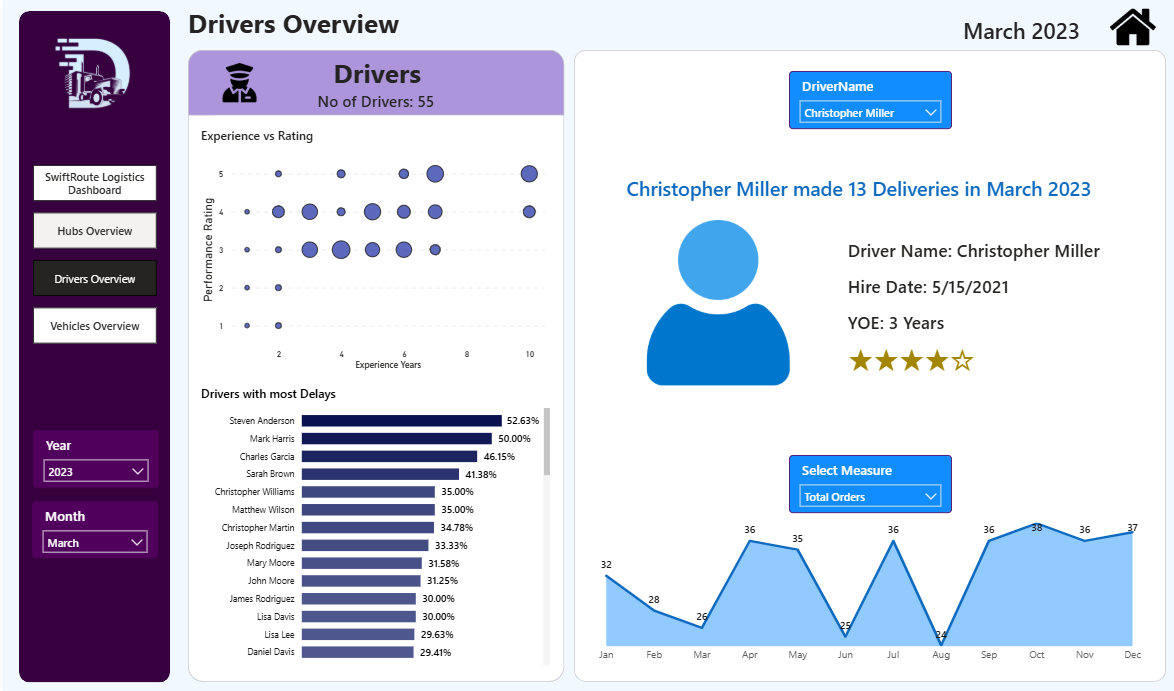

The page's visual inventory and layout, read from the dashboard file:
{"tool":"powerbi","page":{"name":"Drivers Overview","canvas":[1450,850],"ordinal":2},"visuals":[{"type":"shape","box":[19,13.3,184.6,820.1],"z":0},{"type":"textbox","box":[221.1,0,541.1,72.1],"z":1000},{"type":"slicer","fields":{"Values":["Date Table.Year"]},"box":[36.1,525.4,153.7,70.6],"z":2000},{"type":"slicer","fields":{"Values":["Date Table.Month"]},"box":[35.6,611.4,154,70],"z":3000},{"type":"shape","box":[225.8,61.2,459.5,771.6],"z":4000},{"type":"shape","box":[225.8,61.2,459.5,80],"z":5000},{"type":"textbox","box":[368.3,61.7,176.7,71.7],"z":6000},{"type":"cardVisual","fields":{"Data":["Drivers.No of Drivers"]},"box":[355,101.7,200,40],"z":7000},{"type":"scatterChart","title":"Experience vs Rating","fields":{"X":["Drivers.Experience Years"],"Y":["Drivers.Performance Rating"],"Size":["Sum(Drivers.Experience Years)1"]},"box":[236.8,155.3,436,302.7],"z":8000},{"type":"barChart","title":"Drivers with most Delays","fields":{"Category":["Drivers.DriverName"],"Y":["Orders.Delayed Delivery Rate"]},"box":[236.8,470.5,436,348.2],"z":9000},{"type":"image","box":[54.9,36.1,111.3,112.9],"z":10000},{"type":"cardVisual","fields":{"Data":["Orders.Year Month Title"]},"box":[1124.4,9.4,238.4,51.8],"z":11000},{"type":"shape","box":[697.9,61.2,723,771.6],"z":12000},{"type":"slicer","fields":{"Values":["Drivers.DriverName"]},"box":[959.8,86.3,199.2,70.6],"z":13000},{"type":"cardVisual","fields":{"Data":["Drivers.Drivers Title"]},"box":[697.9,189.8,696.3,78.4],"z":14000},{"type":"cardVisual","fields":{"Data":["Drivers.Driver Name Title","Drivers.Hire Date Title","Drivers.Year of Experiance","Drivers.Star Rating"]},"box":[1002.1,268.2,406.2,202.3],"z":15000},{"type":"image","box":[744.9,268.2,257.2,202.3],"z":16000},{"type":"lineChart","fields":{"Y":["Orders.Total Orders"],"Category":["Date Table.Month Abr"]},"box":[708.9,625.7,699.4,192.9],"z":17000},{"type":"slicer","fields":{"Values":["Select Measure.Select Measure"]},"box":[959.8,555.2,199.2,70.6],"z":18000},{"type":"image","box":[1351.8,4.7,56.5,56.5],"z":19000},{"type":"pageNavigator","box":[36.7,201.7,151.7,221.7],"z":20000},{"type":"image","box":[258.3,76.7,60,48.3],"z":21000}]}

Visuals, with their boxes in screenshot pixels (x1, y1, x2, y2), scaled from the page's 1450x850 canvas onto the 1174x691 screenshot:
shape: l=15, t=11, r=165, b=678
textbox: l=179, t=0, r=617, b=59
slicer - Date Table.Year: l=29, t=427, r=154, b=485
slicer - Date Table.Month: l=29, t=497, r=154, b=554
shape: l=183, t=50, r=555, b=677
shape: l=183, t=50, r=555, b=115
textbox: l=298, t=50, r=441, b=108
cardVisual - Drivers.No of Drivers: l=287, t=83, r=449, b=115
"Experience vs Rating" scatterChart: l=192, t=126, r=545, b=372
"Drivers with most Delays" barChart: l=192, t=382, r=545, b=666
image: l=44, t=29, r=135, b=121
cardVisual - Orders.Year Month Title: l=910, t=8, r=1103, b=50
shape: l=565, t=50, r=1150, b=677
slicer - Drivers.DriverName: l=777, t=70, r=938, b=128
cardVisual - Drivers.Drivers Title: l=565, t=154, r=1129, b=218
cardVisual - Drivers.Driver Name Title x Drivers.Hire Date Title: l=811, t=218, r=1140, b=382
image: l=603, t=218, r=811, b=382
lineChart - Orders.Total Orders x Date Table.Month Abr: l=574, t=509, r=1140, b=665
slicer - Select Measure.Select Measure: l=777, t=451, r=938, b=509
image: l=1094, t=4, r=1140, b=50
pageNavigator: l=30, t=164, r=153, b=344
image: l=209, t=62, r=258, b=102
